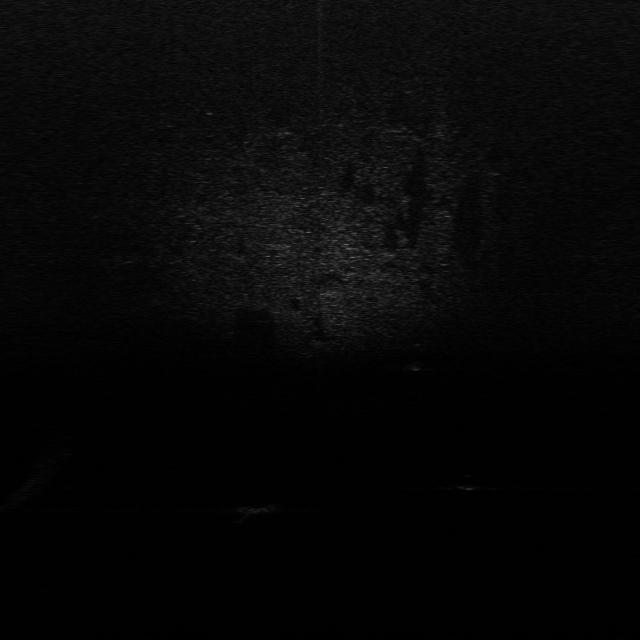ball: (453, 472, 483, 492)
square cage: (232, 494, 282, 516)
tyre: (408, 340, 439, 370)
